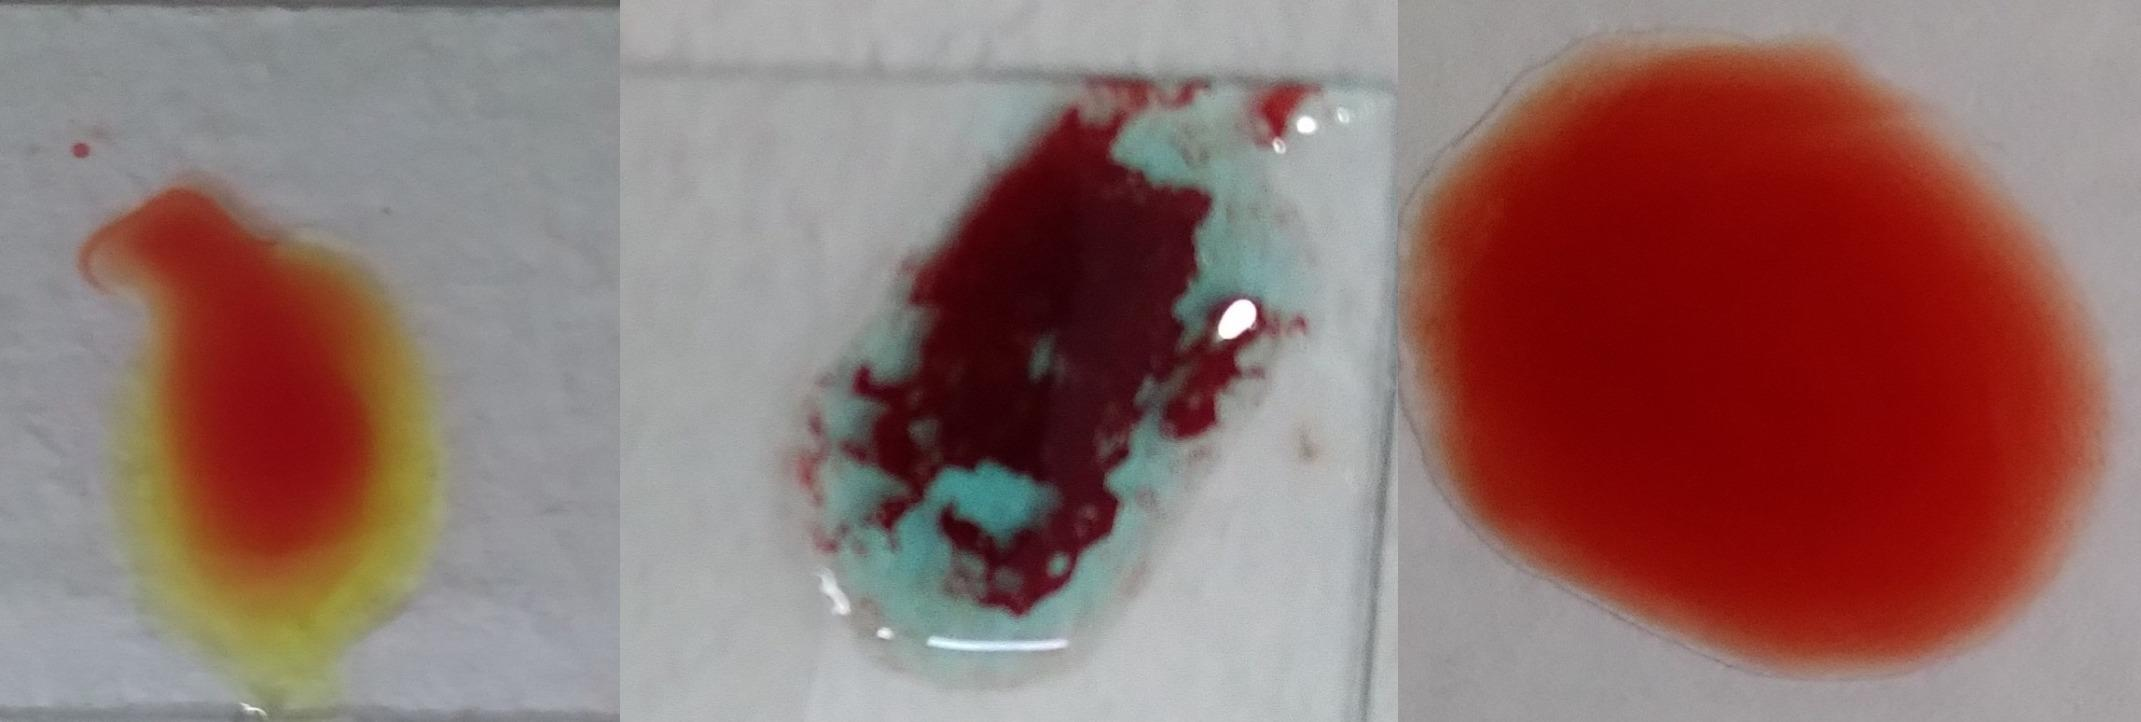A: (829, 67, 1281, 648)
